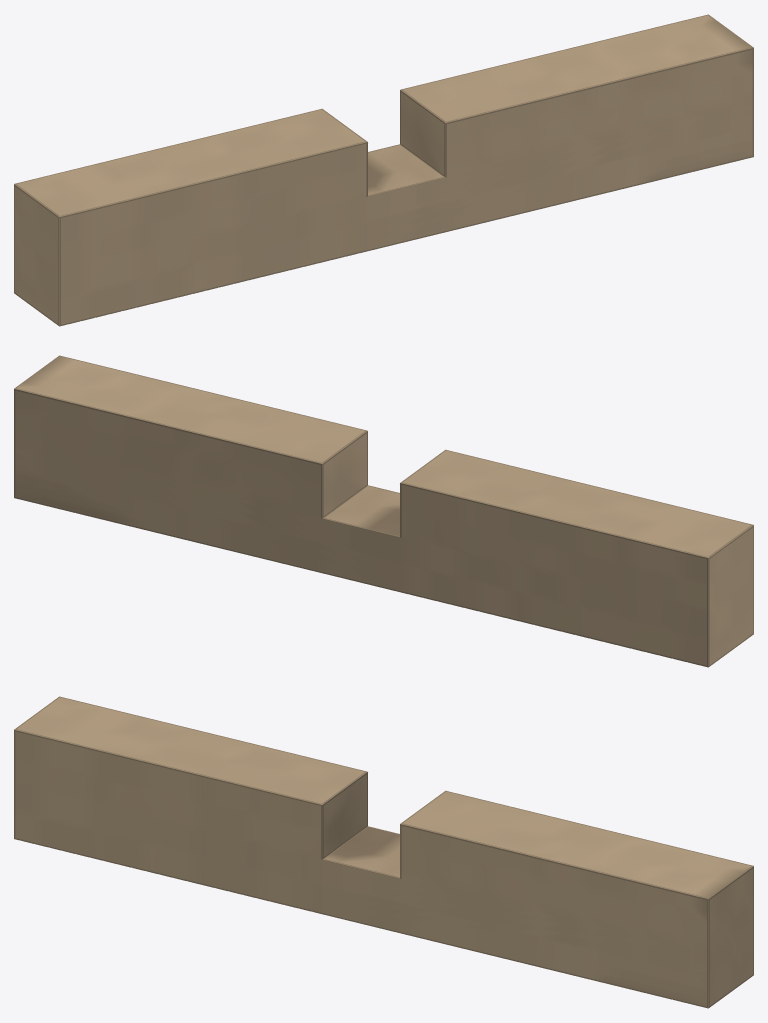
File: beam-x.glb
3 renders of one model, top to bottom at view 1: azimuth 30°, elevation 25°; view 2: azimuth 150°, elevation 25°; view 3: azimuth 330°, elevation 25°, orthographic.
Visible parts, largest first — view 1: beam-x; view 2: beam-x; view 3: beam-x.
Part boxes in pixels (x1,y1,x2,y2): beam-x: (14, 14, 753, 326); beam-x: (14, 355, 753, 667); beam-x: (14, 696, 753, 1008).
Bounding box in the file's own units: 0.8008 × 0.1208 × 0.0908.
